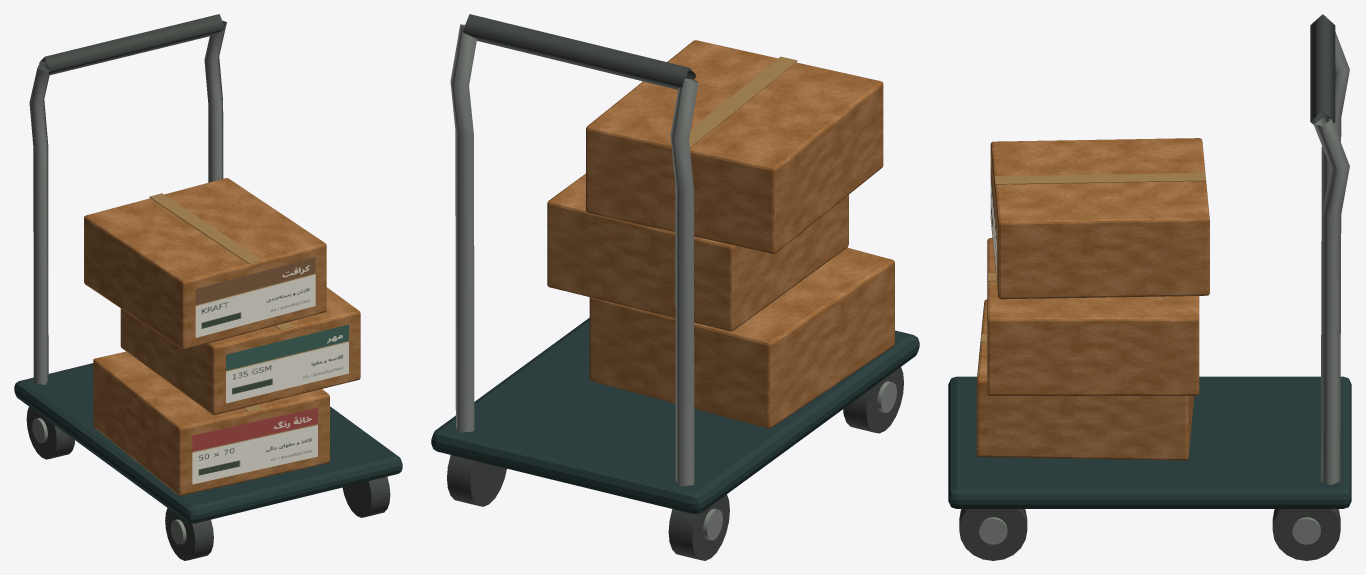
Rendered from loaded-paper-cart.glb.
3 renders of one model, left to right at view 1: azimuth 30°, elevation 25°; view 2: azimuth 150°, elevation 25°; view 3: azimuth 270°, elevation 25°, orthographic. The views are drawn at different scales.
Parts seen in each view (by area): view 1: Box side plies.014, Steel cart bed, Box side plies.012, Box side plies.013, Lot label.012, Lot label.013, Lot label.014, Continuous bent cart tube, Rubber grip, Continuous bent cart tube.001, Vulcanized cart wheel, Vulcanized cart wheel.002 (+2 smaller); view 2: Box side plies.014, Steel cart bed, Box side plies.012, Box side plies.013, Continuous bent cart tube, Continuous bent cart tube.001, Rubber grip, Vulcanized cart wheel.001, Vulcanized cart wheel.003, Mailing tape.014, Vulcanized cart wheel; view 3: Steel cart bed, Box side plies.014, Box side plies.013, Box side plies.012, Continuous bent cart tube.001, Rubber grip, Vulcanized cart wheel.002, Vulcanized cart wheel.003, Mailing tape.014, Continuous bent cart tube, Hub rough finish.002, Hub rough finish.003.
Part boxes in pixels (box(x1,y1,x2,y2)): Box side plies.014: box(84, 178, 326, 349); Steel cart bed: box(14, 363, 402, 523); Box side plies.012: box(93, 351, 329, 495); Box side plies.013: box(120, 287, 360, 414); Lot label.012: box(192, 407, 317, 484); Lot label.013: box(226, 324, 348, 403); Lot label.014: box(195, 257, 315, 337); Continuous bent cart tube: box(29, 61, 49, 384); Rubber grip: box(39, 14, 224, 75); Continuous bent cart tube.001: box(204, 20, 226, 182); Vulcanized cart wheel: box(165, 508, 213, 560); Vulcanized cart wheel.002: box(342, 476, 390, 517); Box side plies.014: box(586, 40, 883, 253); Steel cart bed: box(431, 318, 919, 513); Box side plies.012: box(589, 247, 894, 428); Box side plies.013: box(547, 173, 848, 331); Continuous bent cart tube: box(670, 78, 698, 486); Continuous bent cart tube.001: box(450, 24, 476, 432); Rubber grip: box(462, 14, 696, 89); Vulcanized cart wheel.001: box(668, 494, 729, 560); Vulcanized cart wheel.003: box(447, 455, 506, 506); Mailing tape.014: box(689, 56, 797, 147); Vulcanized cart wheel: box(843, 367, 903, 433); Steel cart bed: box(948, 376, 1351, 508); Box side plies.014: box(990, 138, 1209, 299); Box side plies.013: box(987, 238, 1199, 395); Box side plies.012: box(976, 299, 1194, 460); Continuous bent cart tube.001: box(1314, 118, 1349, 485); Rubber grip: box(1310, 14, 1335, 124); Vulcanized cart wheel.002: box(959, 509, 1027, 560); Vulcanized cart wheel.003: box(1272, 509, 1340, 560); Mailing tape.014: box(994, 173, 1205, 184); Continuous bent cart tube: box(1321, 32, 1349, 384); Hub rough finish.002: box(979, 517, 1007, 544); Hub rough finish.003: box(1292, 517, 1320, 544).
Bounding box in the file's own units: 0.612 × 1.06 × 0.875.
8 materials, 4 textured.
